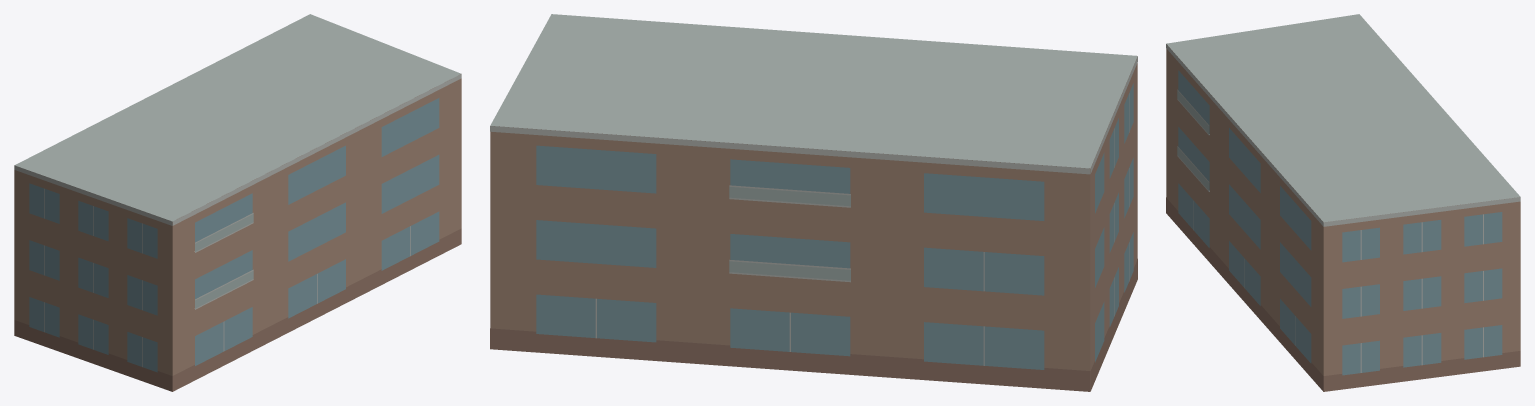
File: survey-upis-32617426.glb
3 views of the same model, side by side, from view 1: azimuth 30°, elevation 25°; view 2: azimuth 150°, elevation 25°; view 3: azimuth 270°, elevation 25° (orthographic). The views are drawn at different scales.
Visible parts, largest first — view 1: survey-upis-32617426.tmp; view 2: survey-upis-32617426.tmp; view 3: survey-upis-32617426.tmp.
Part boxes in pixels (<box>): survey-upis-32617426.tmp: <box>14,14,461,391</box>; survey-upis-32617426.tmp: <box>490,14,1137,391</box>; survey-upis-32617426.tmp: <box>1166,14,1520,391</box>.
Size of the model in its own units: 24.12 by 9.15 by 17.35.
